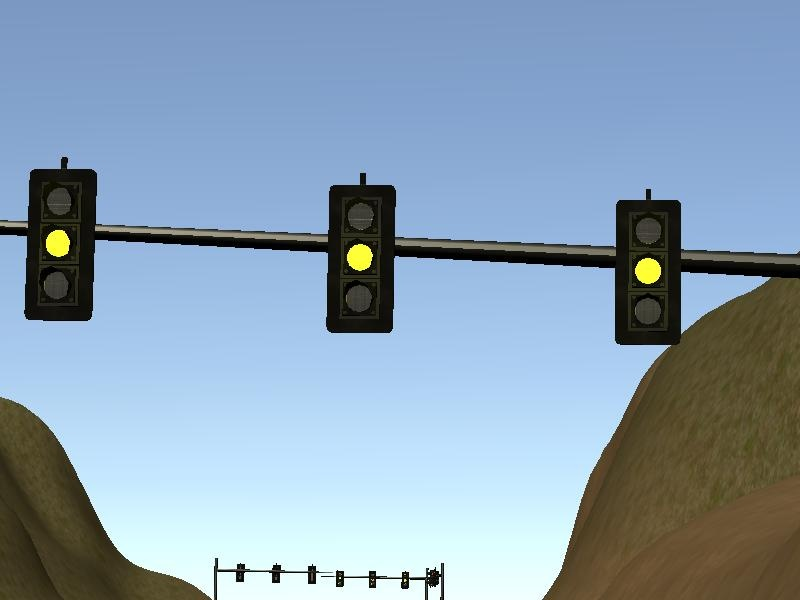yellow: (602, 179, 698, 356), (16, 146, 101, 329), (320, 167, 406, 345)
